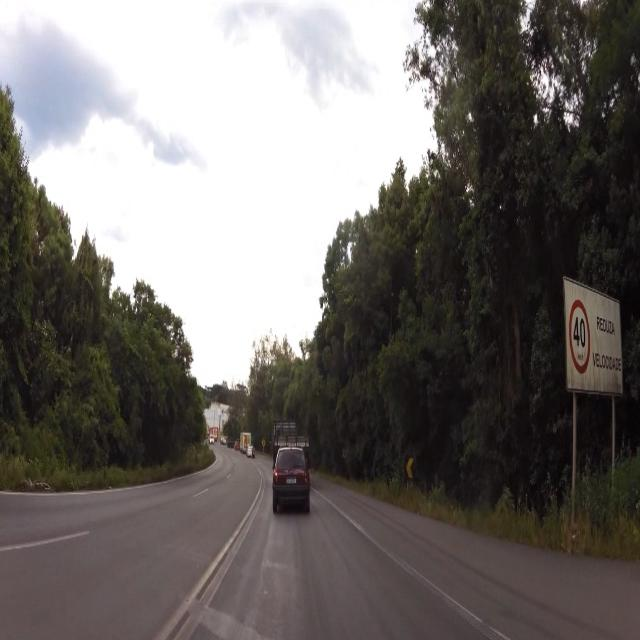R-19: (569, 294, 591, 378)
